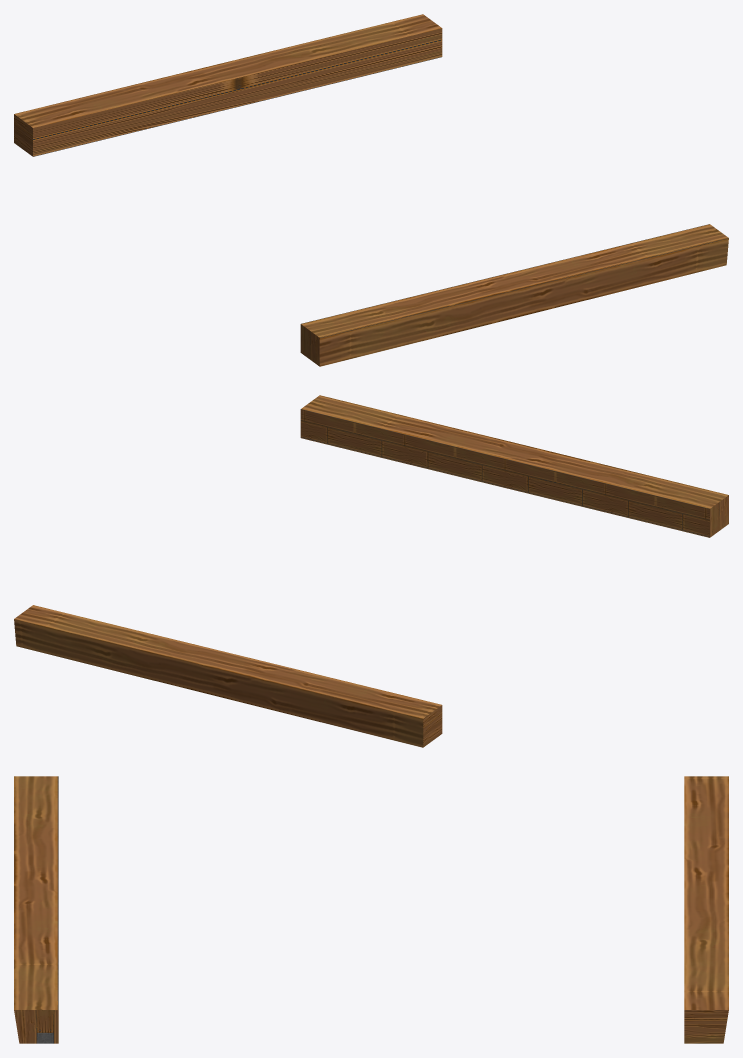
3 renders of one model, top to bottom at view 1: azimuth 30°, elevation 25°; view 2: azimuth 150°, elevation 25°; view 3: azimuth 270°, elevation 25°, orthographic. The views are drawn at different scales.
Parts seen in each view (by area): view 1: Cube.1193; view 2: Cube.1193; view 3: Cube.1193.
Boxes of the visible parts, x1=… form: Cube.1193: x1=14, y1=14, x2=728, y2=366; Cube.1193: x1=14, y1=395, x2=728, y2=747; Cube.1193: x1=14, y1=776, x2=728, y2=1043.
Bounding box in the file's own units: 639 × 43.13 × 827.
1 material, 1 textured.
